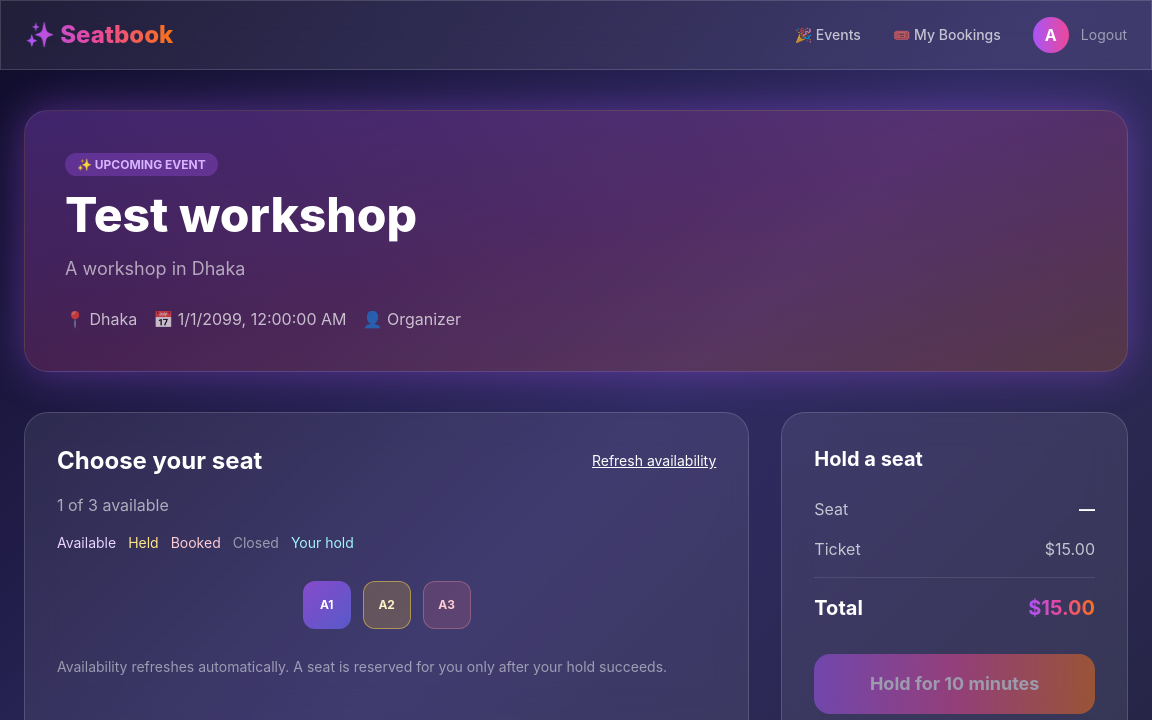
Test: recovers a hold after a lost creation response without silently creating another one
The width and height of the screenshot is (1152, 720).
Click the button named "Seat A1, available" at (327, 605), box [303,581,351,629]
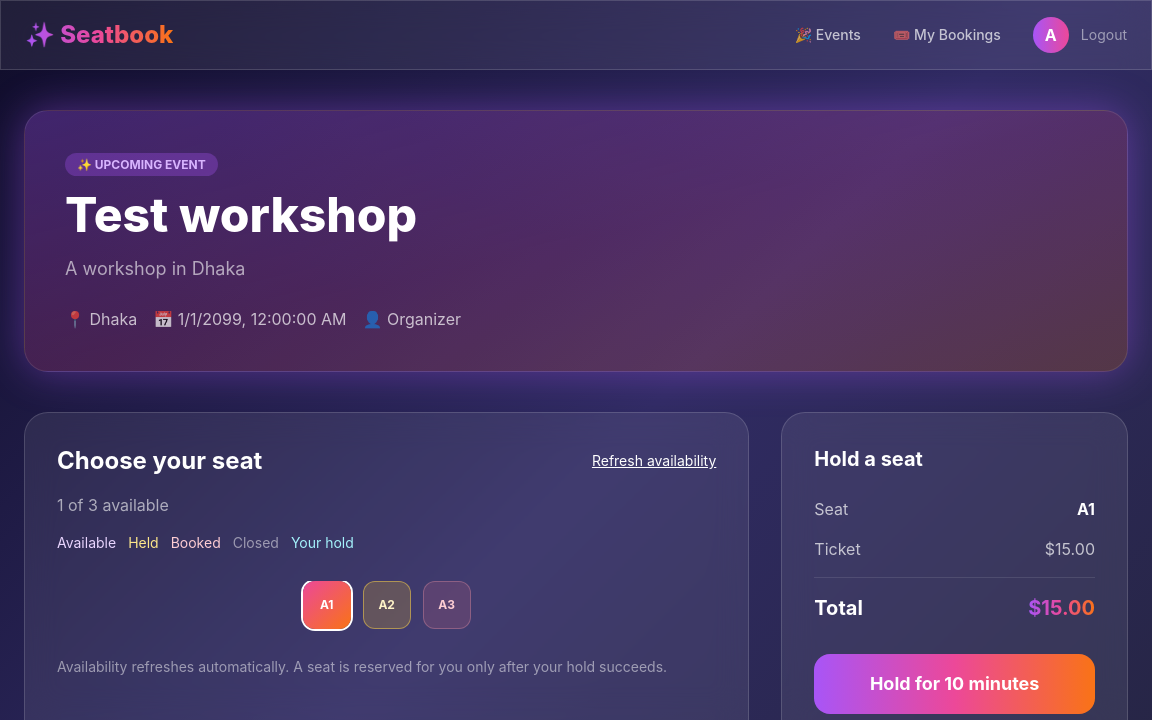
Expected: the button "Hold for 10 minutes" is enabled
Click the button "Hold for 10 minutes" at (955, 684), box [814,654,1095,714]
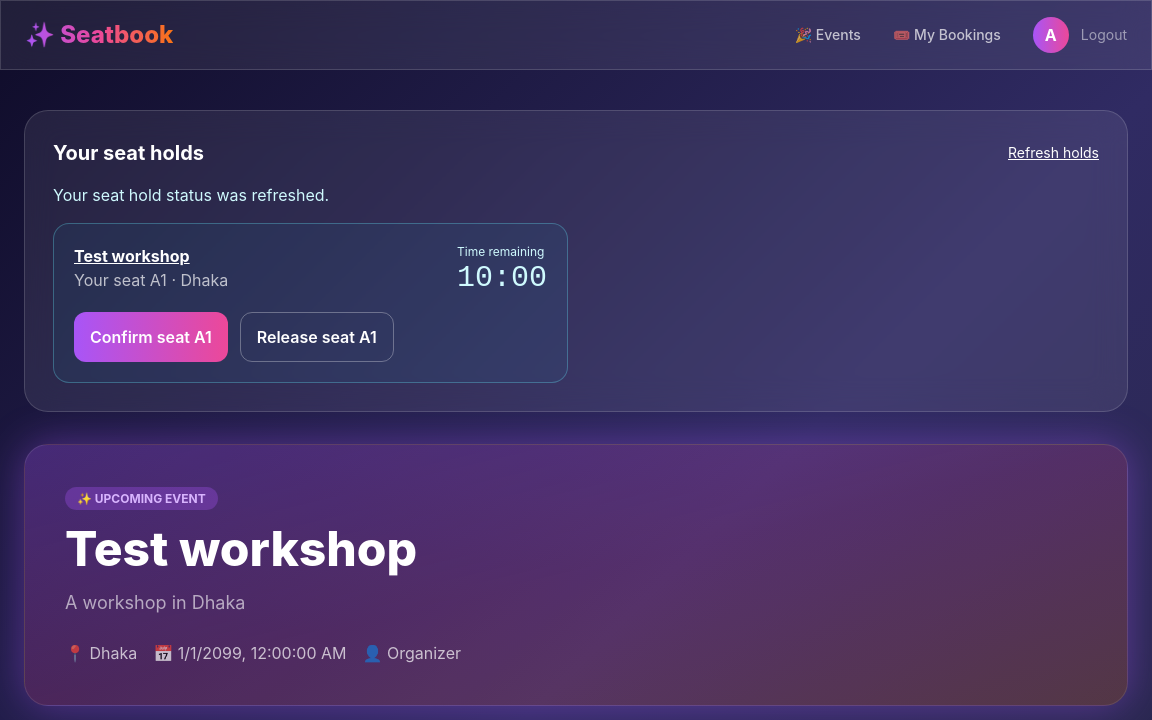
Expected: the text "10:00" is shown, [457,261,547,295]
Expected: the text "Your seat hold status was refreshed." is shown, [53,185,329,205]
